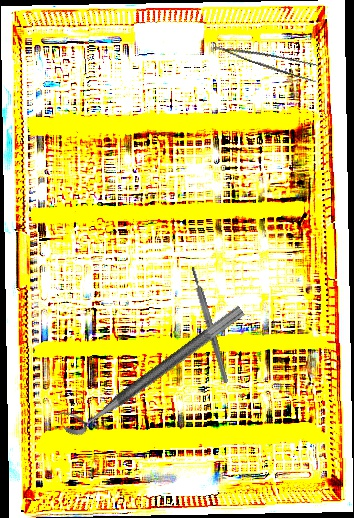Fixation Ring: (54, 290, 247, 442)
Scalpel Handle: (189, 266, 230, 384)
Tissue Forceps: (213, 29, 325, 87)
